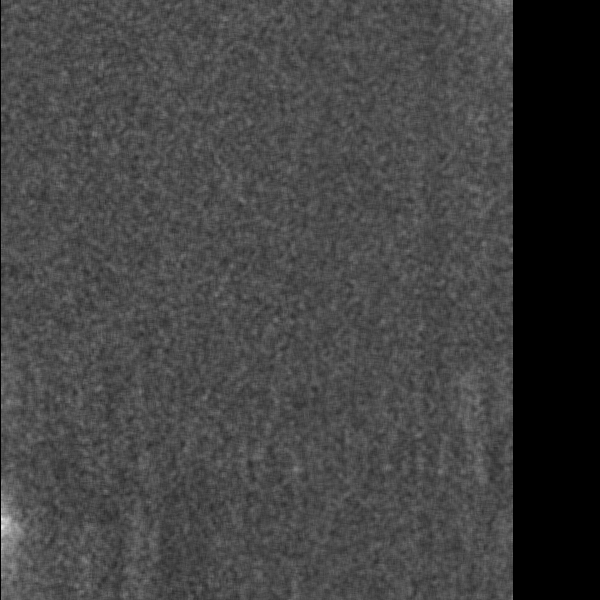spark: (20, 375, 101, 449), (301, 467, 341, 549), (441, 526, 488, 585), (86, 549, 131, 589), (60, 494, 107, 532), (12, 233, 45, 284), (420, 175, 451, 216), (281, 89, 321, 120), (376, 310, 415, 332)
